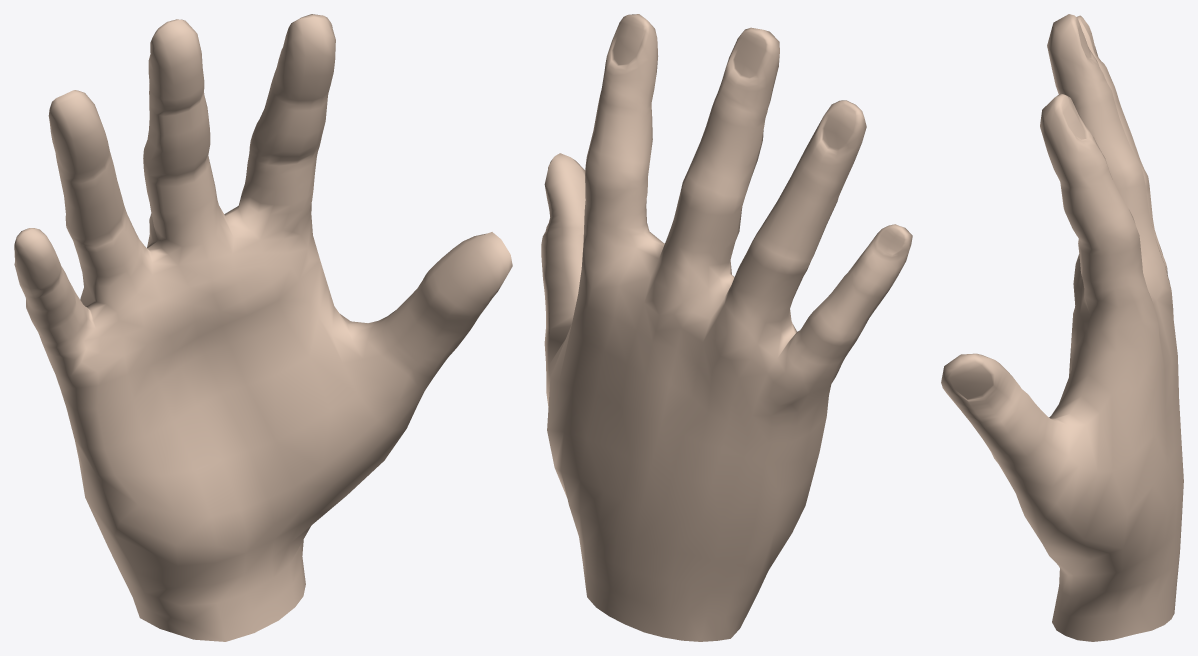
The model's file is MainGauche.fbx.
3 views of the same model, side by side, from view 1: azimuth 30°, elevation 25°; view 2: azimuth 150°, elevation 25°; view 3: azimuth 270°, elevation 25° (orthographic). The views are drawn at different scales.
Visible parts, largest first — view 1: womanMesh; view 2: womanMesh; view 3: womanMesh.
Boxes of the visible parts, <box> form: womanMesh: <box>14,14,512,641</box>; womanMesh: <box>541,14,912,641</box>; womanMesh: <box>941,14,1183,641</box>.
Bounding box in the file's own units: 123 × 170 × 64.93.
